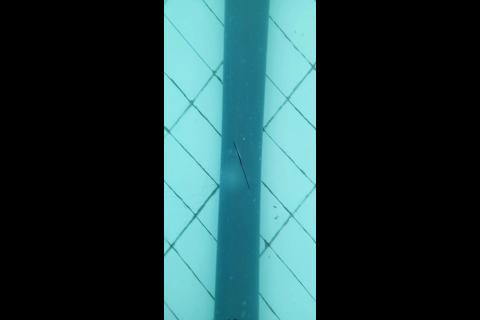keretakan: (231, 140, 251, 191)
